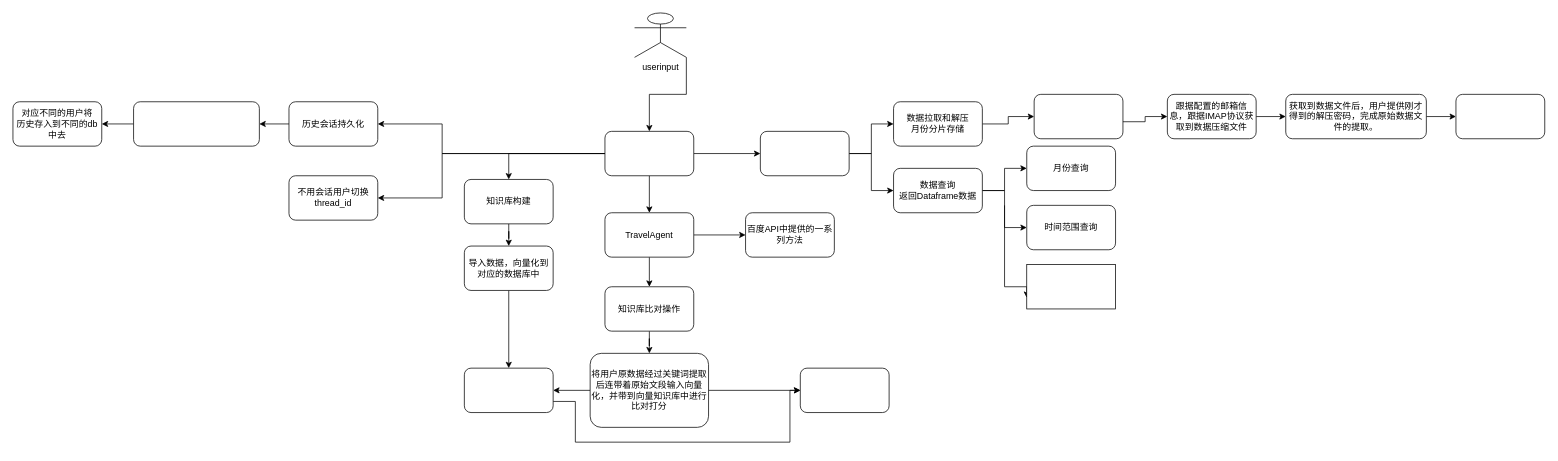
Some shapes in this 1558 by 461 pixel diagram are drawn without their labels. Each missing label, with the centre of its shape:
Bi llagent: point 804,153
主agent main.py: point 649,153
其他的一系列小方法: point 1071,286
在程序启动初始化中， 就将checkpoints注入到初始化agent中去: point 196,123
形成知识库: point 508,390
得到分数最高的结果: point 844,390
指引用户进去微信手动选择邮箱方式导出数据，并获取到微信提供的解压密码: point 1078,116
然后将数据按月份分片存储: point 1500,116
